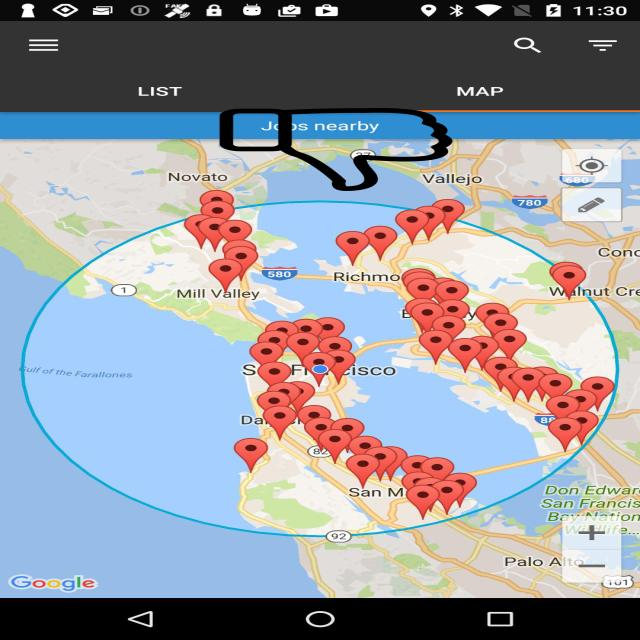obstruction: (216, 108, 456, 191)
